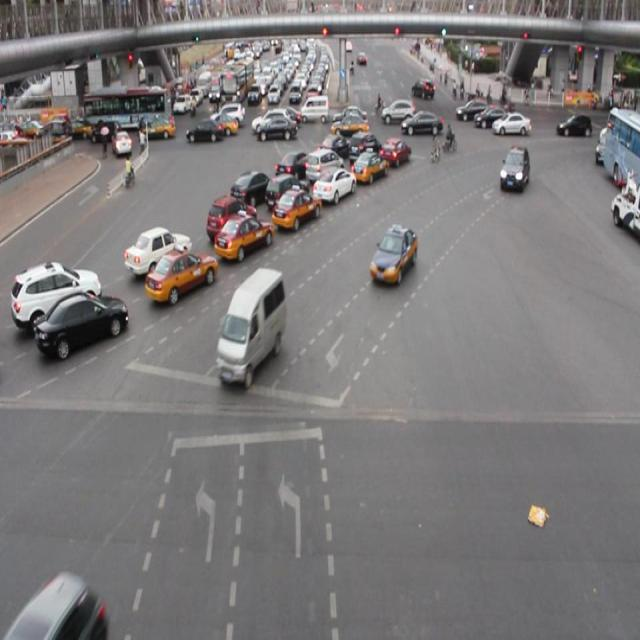car: (8, 567, 106, 640), (36, 290, 126, 359), (10, 263, 101, 326), (146, 247, 216, 302), (124, 224, 190, 274), (214, 211, 271, 261), (371, 224, 416, 282), (207, 194, 256, 240), (272, 185, 320, 231), (311, 167, 355, 208), (265, 172, 309, 210), (498, 146, 528, 191), (231, 171, 270, 205), (346, 131, 381, 166), (275, 151, 310, 186), (351, 149, 386, 182), (319, 131, 350, 163), (379, 138, 409, 170)
truck: (217, 271, 283, 386), (304, 146, 344, 182)
